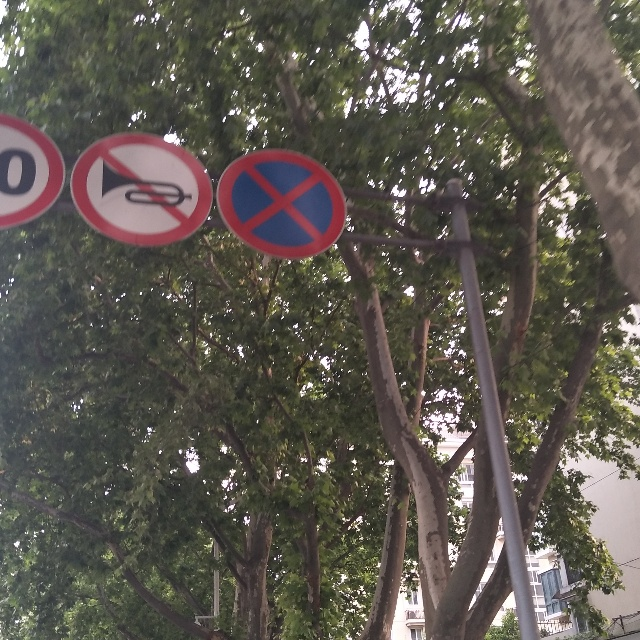nohonk: (84, 141, 200, 234)
stop: (236, 157, 343, 246)
